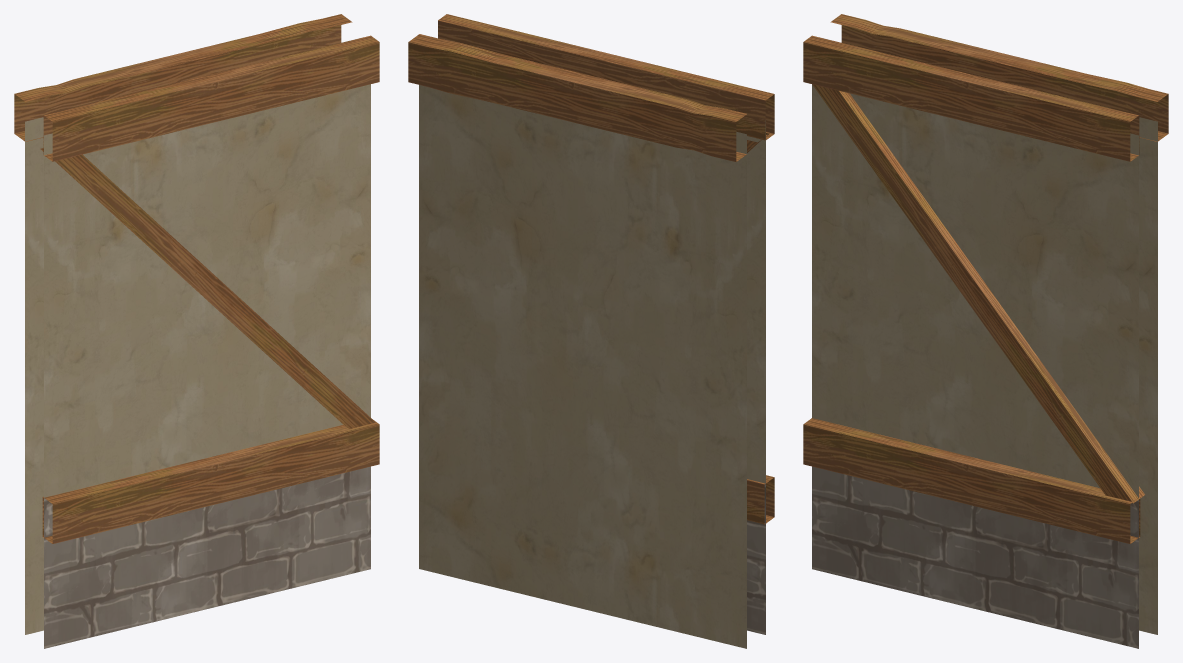
Rendered from Wall_Plaster_Straight_L.gltf.
3 views of the same model, side by side, from view 1: azimuth 30°, elevation 25°; view 2: azimuth 150°, elevation 25°; view 3: azimuth 330°, elevation 25° (orthographic).
Parts seen in each view (by area): view 1: Wall_Plaster_Straight_L; view 2: Wall_Plaster_Straight_L; view 3: Wall_Plaster_Straight_L.
Part boxes in pixels (box(x1,y1,x2,y2)): Wall_Plaster_Straight_L: box(14, 14, 379, 648); Wall_Plaster_Straight_L: box(408, 14, 774, 648); Wall_Plaster_Straight_L: box(803, 14, 1168, 648).
Size of the model in its own units: 2 by 3.12 by 0.4065.
Materials: 3 (3 with a texture image).
